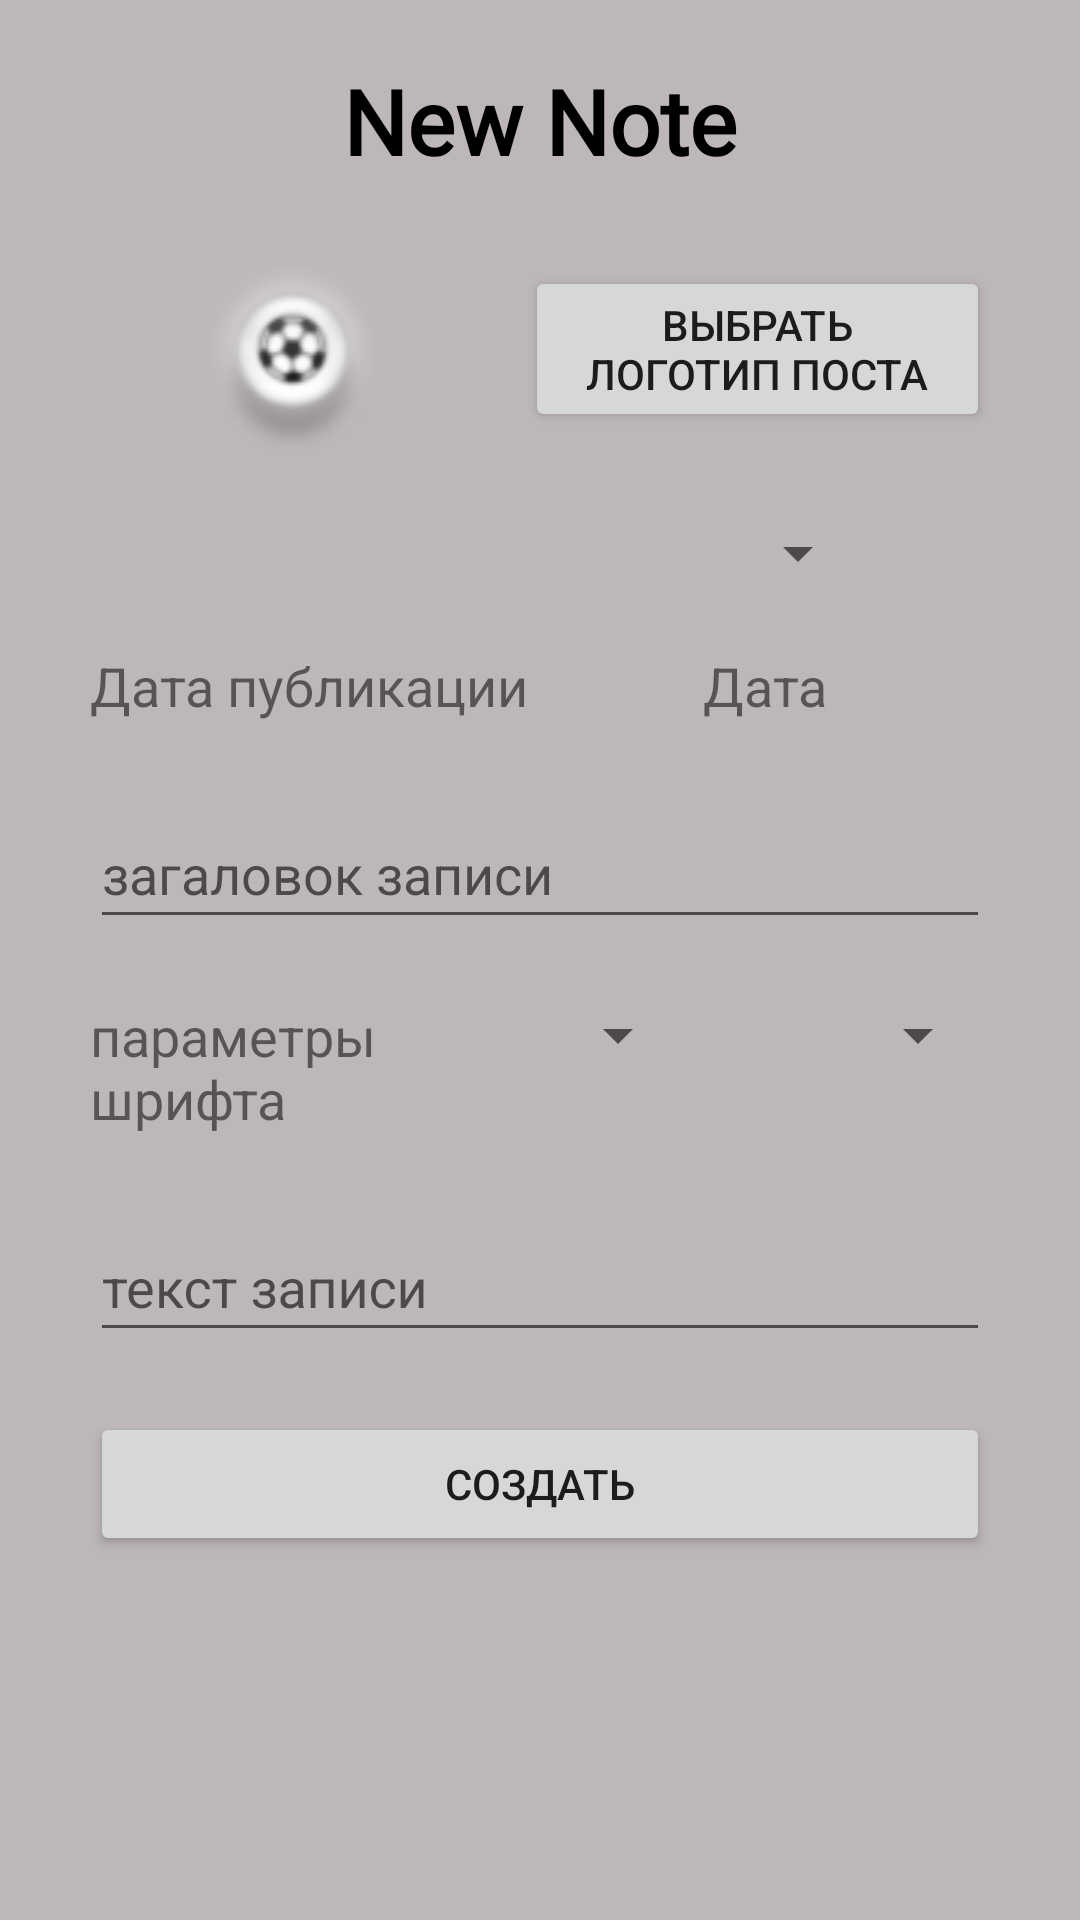

Named icons in this screenshot (1080 x 1920) and their centers, (x=x, y=y):
ball: (x=292, y=364)
